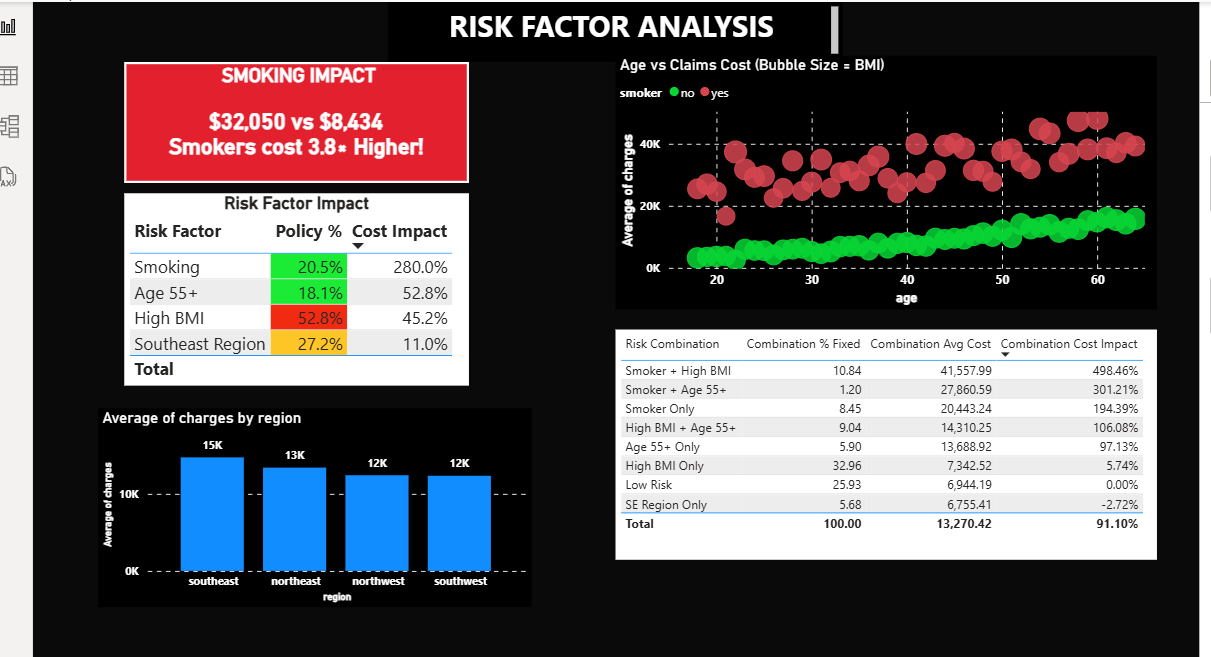

The dashboard page shown, as its layout file describes it:
{"tool":"powerbi","page":{"name":"Risk Factor Analysis","canvas":[1280,720],"ordinal":1},"visuals":[{"type":"textbox","box":[389.7,0,499.5,65.9],"z":0},{"type":"scatterChart","title":"Age vs Claims Cost (Bubble Size = BMI)","fields":{"X":["insurance.age"],"Y":["Avg(insurance.charges)"],"Size":["Avg(insurance.bmi)"],"Series":["insurance.smoker"]},"box":[640,58.6,594.3,278.6],"z":1000},{"type":"tableEx","title":"Risk Factor Impact","fields":{"Values":["Risk Factors.Risk Factor","insurance.Policy % by Risk Factor","insurance.Cost Impact by Risk Factor"]},"box":[100,210,378.6,211.4],"z":2000},{"type":"card","title":"SMOKING IMPACT","fields":{"Values":["Risk Factors.Smoking Comparison"]},"box":[100,65.7,378.6,132.9],"z":3000},{"type":"clusteredColumnChart","fields":{"Category":["insurance.region"],"Y":["Avg(insurance.charges)"]},"box":[71.4,445.7,475.7,218.6],"z":4000},{"type":"tableEx","fields":{"Values":["insurance.Risk Combination","Risk Factors.Combination %","Risk Factors.Combination Avg Cost","Risk Factors.Combination Cost Impact"]},"box":[640,360,594.3,252.9],"z":5000}]}

Visuals, with their boxes on the page's 1280x720 design canvas (x1, y1, x2, y2). These are canvas units, not pixel positions in the 1211x657 screenshot, which may show the page scaled, cropped or inside an application window:
textbox: crop(390, 0, 889, 66)
"Age vs Claims Cost (Bubble Size = BMI)" scatterChart: crop(640, 59, 1234, 337)
"Risk Factor Impact" tableEx: crop(100, 210, 479, 421)
"SMOKING IMPACT" card: crop(100, 66, 479, 199)
clusteredColumnChart - insurance.region x Avg(insurance.charges): crop(71, 446, 547, 664)
tableEx - insurance.Risk Combination x Risk Factors.Combination %: crop(640, 360, 1234, 613)
